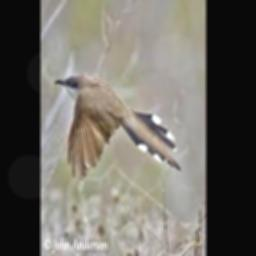Cuckoo: (54, 72, 180, 178)
